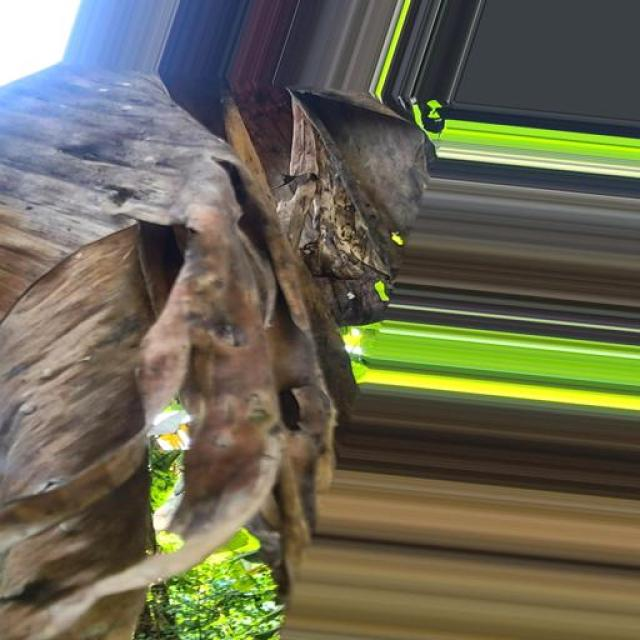Bract_mosaic_virus: (0, 47, 444, 640)
